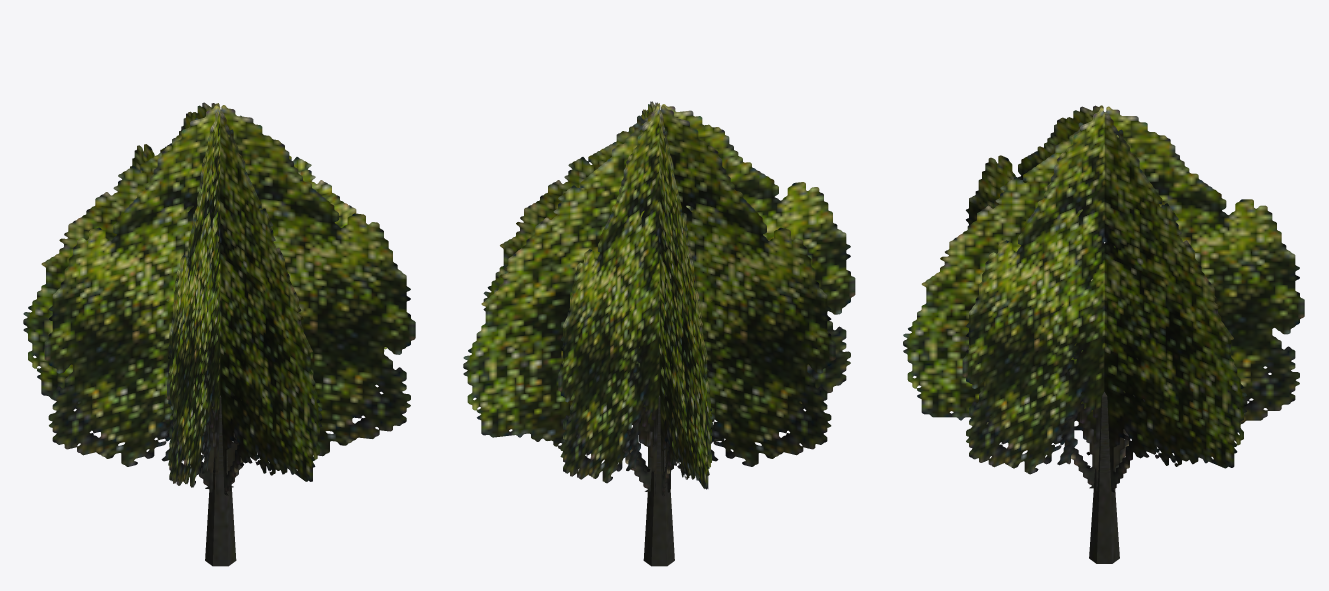
File: tree20.glb
The picture shows the model from 3 angles, left to right: view 1: azimuth 30°, elevation 25°; view 2: azimuth 150°, elevation 25°; view 3: azimuth 270°, elevation 25°; orthographic projection.
Parts seen in each view (by area): view 1: tree20; view 2: tree20; view 3: tree20.
Part boxes in pixels (<box>): tree20: <box>23,102,415,566</box>; tree20: <box>463,101,855,566</box>; tree20: <box>903,105,1304,563</box>.
Bounding box in the file's own units: 10.89 × 13 × 10.89.
Materials: 1 (1 with a texture image).
